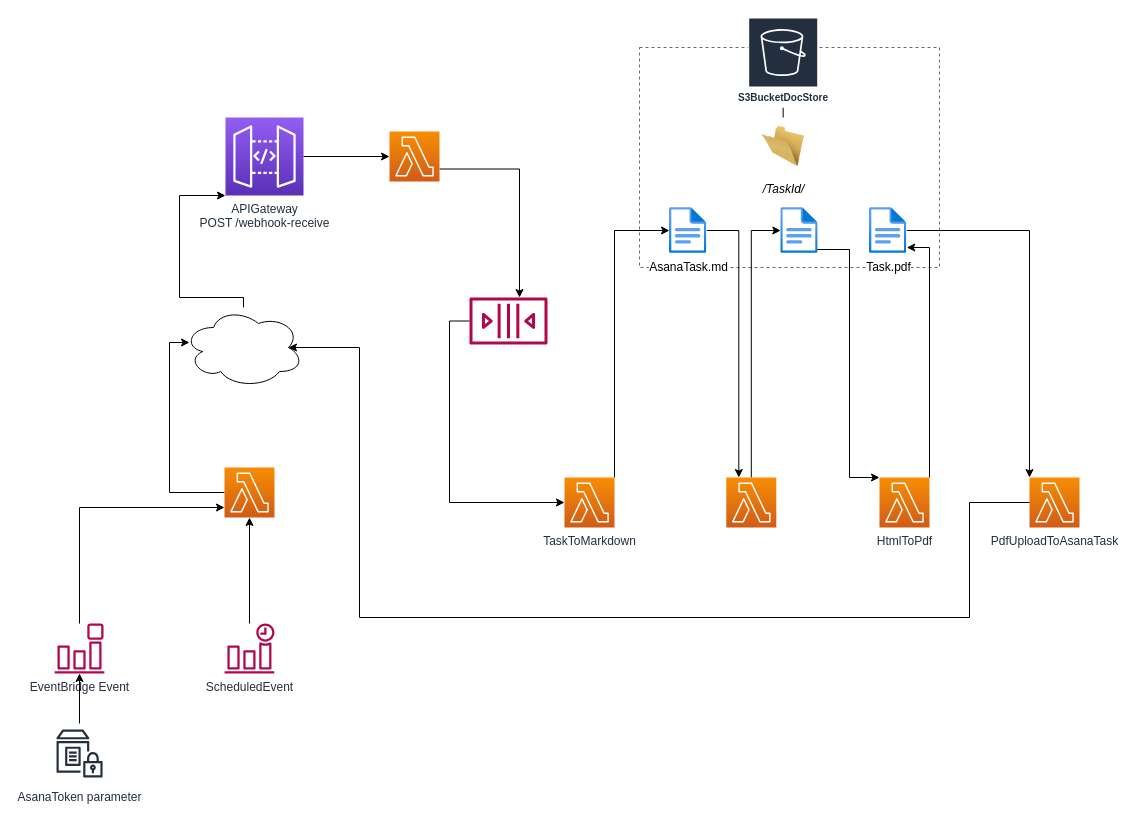
This 1135x822 diagram has some shape labels left out. Each missing label, with the box of its shape:
Asana: (182, 306, 304, 388)
AsanaTask.html: (780, 207, 818, 253)
MarkdownToHtml: (725, 476, 776, 528)
SQSQueueTask: (469, 297, 547, 344)
WebhookCreate: (224, 466, 274, 518)
WebhookReceive: (388, 130, 440, 182)
